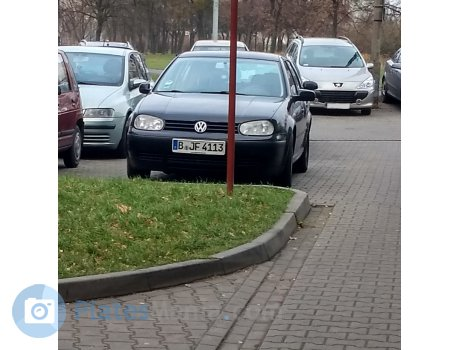License Plates: (174, 138, 225, 154)
